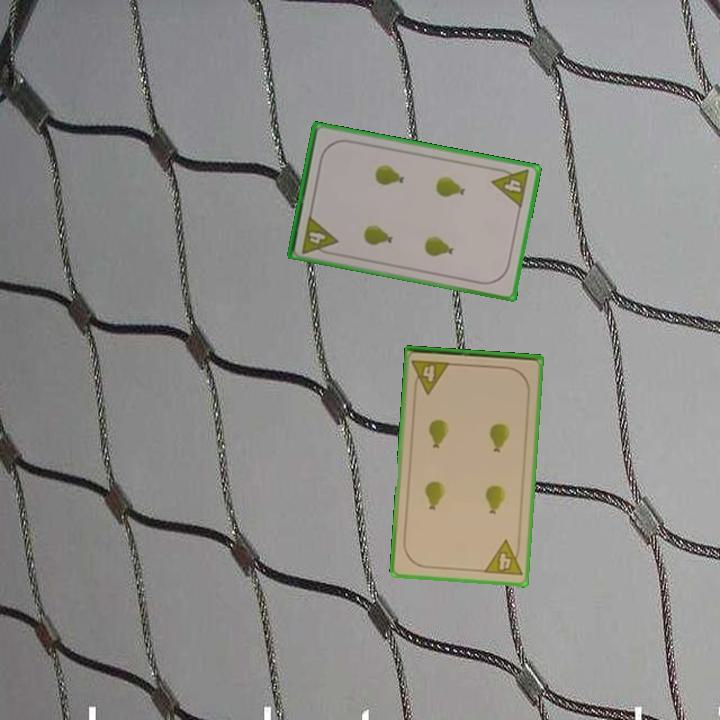4p: (488, 164, 532, 211), (298, 212, 340, 258), (480, 537, 525, 579), (408, 356, 453, 396)
